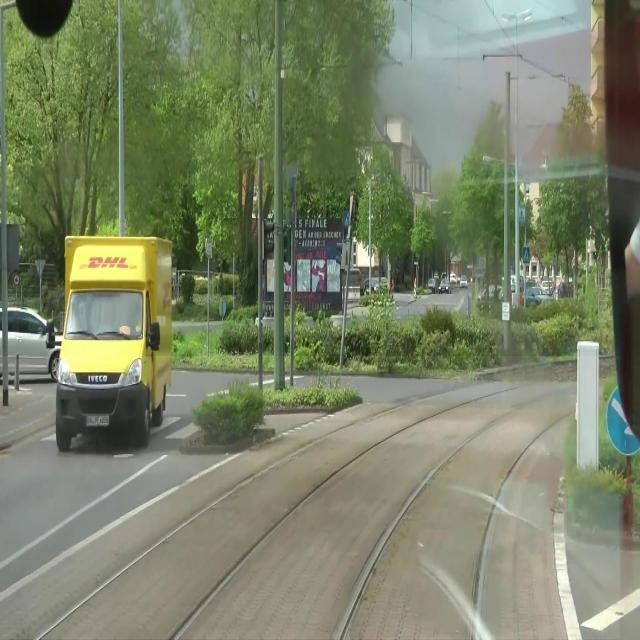rail: (1, 358, 621, 640)
